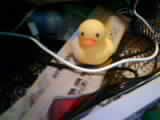duck: (65, 23, 116, 69)
